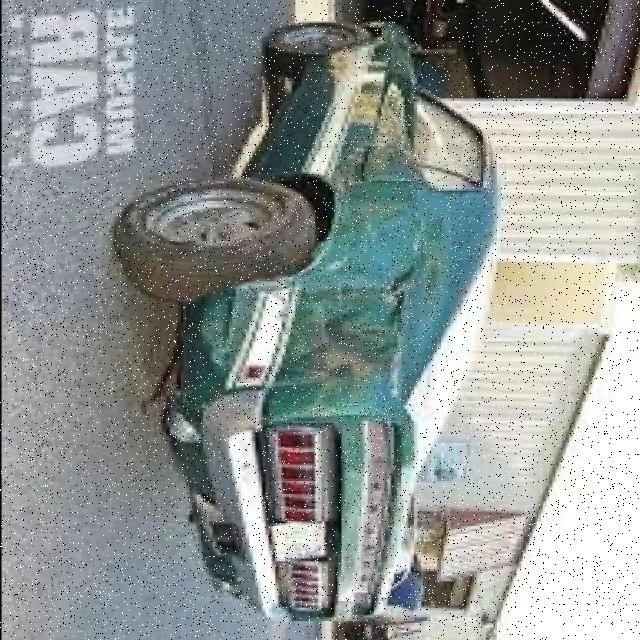damage: (196, 171, 431, 396)
